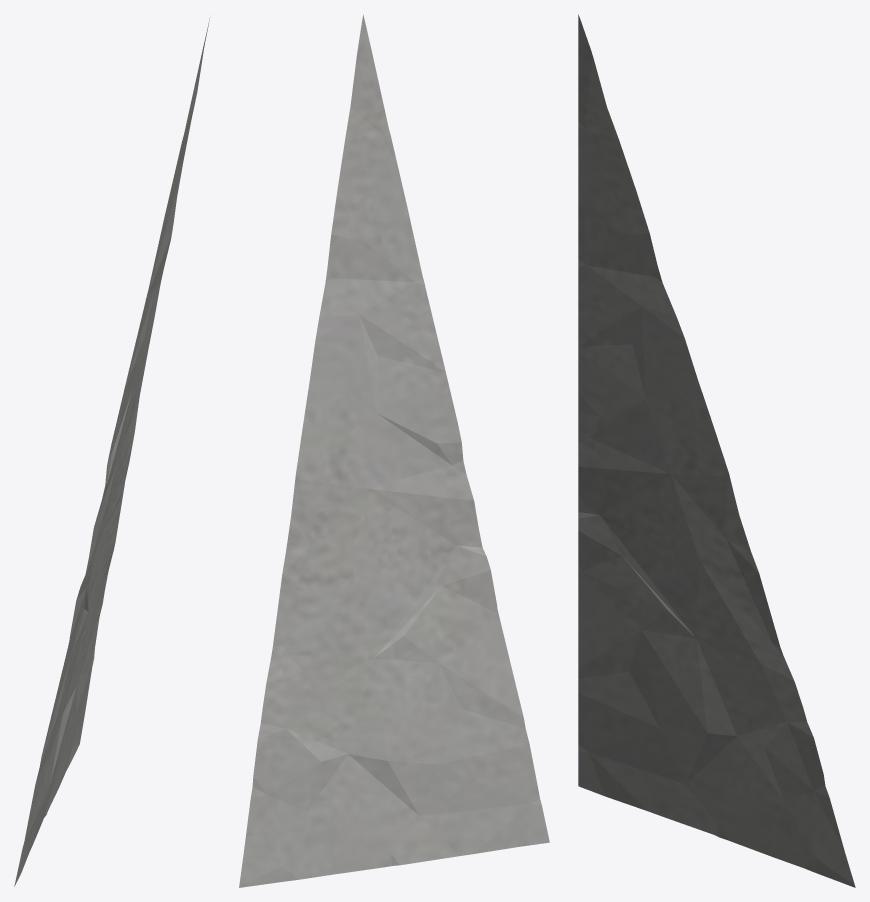
3 renders of one model, left to right at view 1: azimuth 30°, elevation 25°; view 2: azimuth 150°, elevation 25°; view 3: azimuth 270°, elevation 25°, orthographic. The views are drawn at different scales.
Bounding box in the file's own units: 0.1837 × 0.7366 × 0.2117.
Materials: 1 (1 with a texture image).
